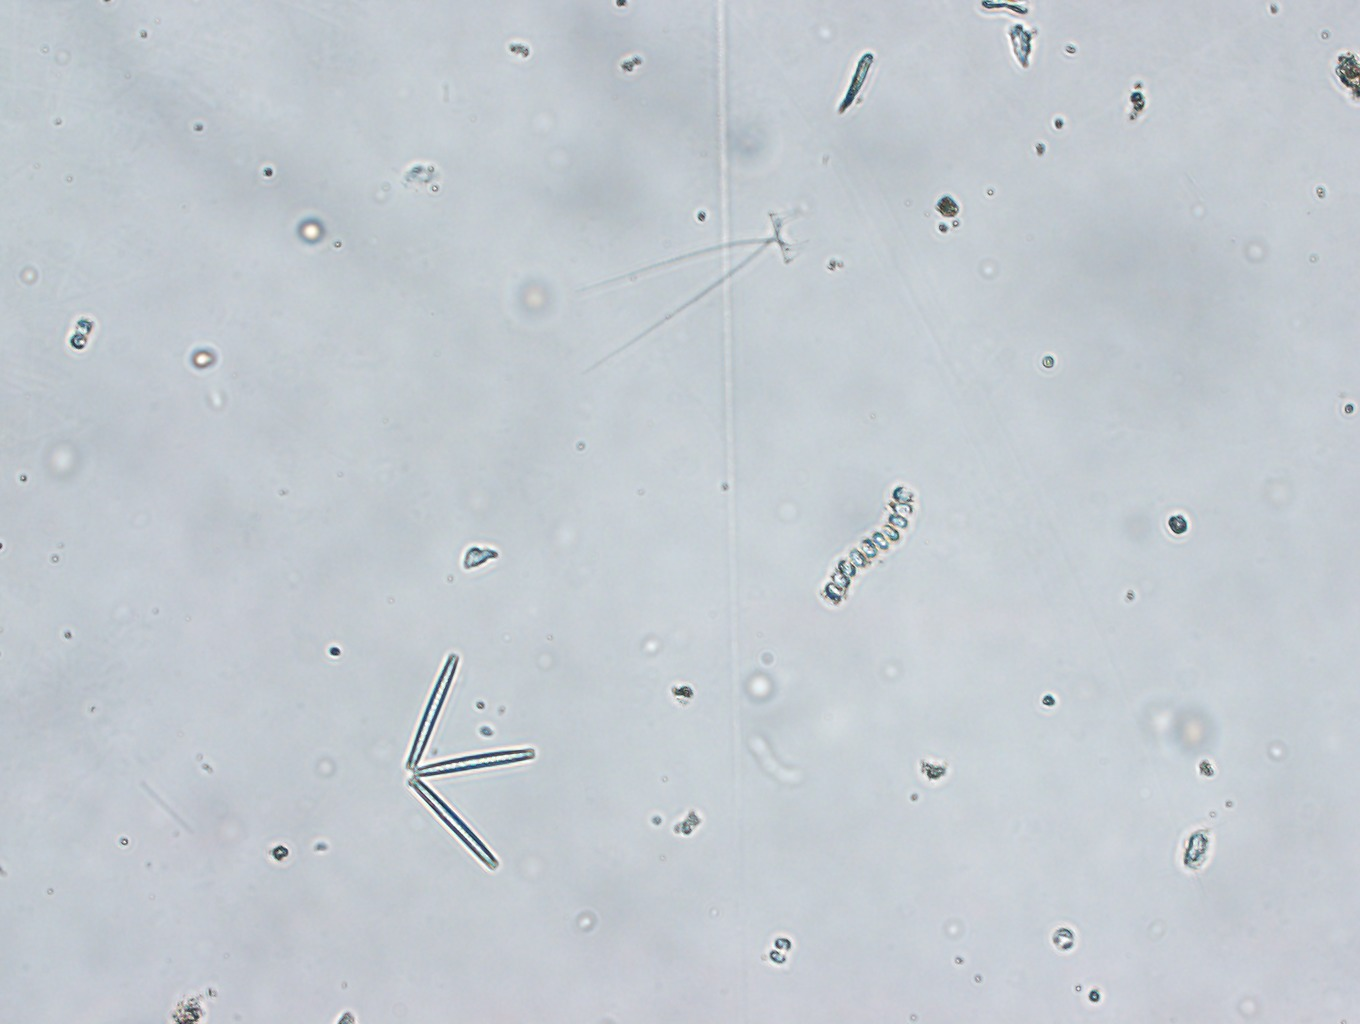chaetoceros: (568, 213, 808, 372)
skeletonema: (818, 480, 918, 611)
thalassionema nitzschioides: (402, 653, 539, 869)
